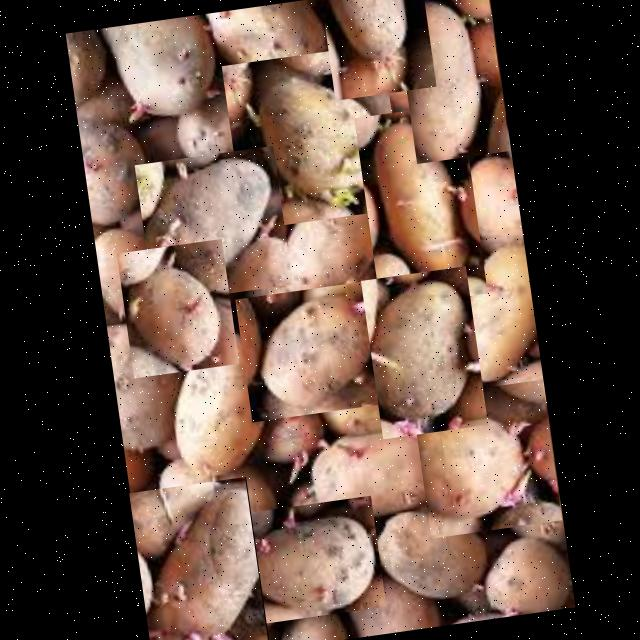Sprouted potato: (222, 42, 406, 230), (354, 102, 488, 308), (147, 316, 290, 497), (134, 145, 292, 303), (412, 378, 562, 538), (129, 475, 270, 640), (235, 278, 395, 422), (264, 166, 408, 320), (361, 266, 488, 438), (300, 406, 462, 530), (236, 494, 386, 624), (392, 0, 510, 163), (94, 12, 231, 142), (116, 238, 240, 378), (432, 233, 542, 386), (321, 0, 436, 99)
